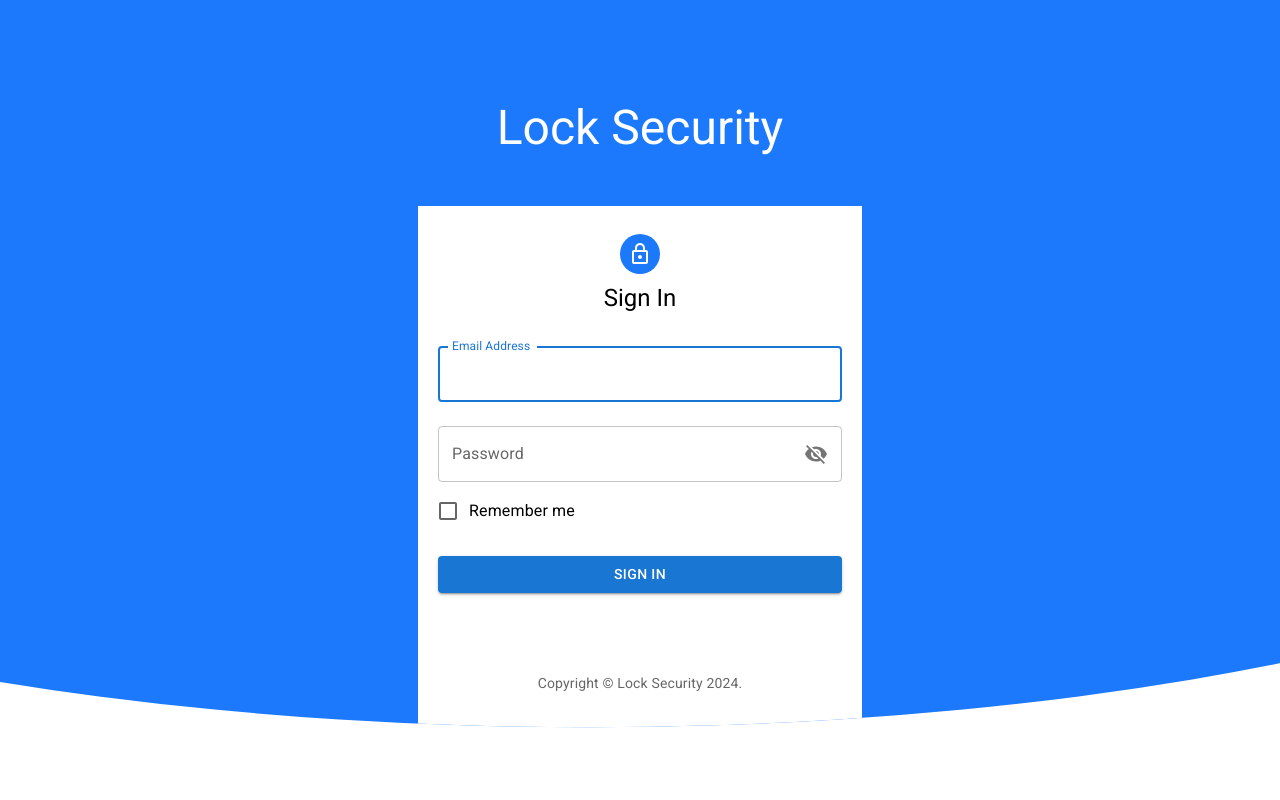
Scenario: Login › shouldn't login if email is empty
This screenshot has width=1280, height=800.
# we click on the login button
Click the button.
click(640, 574)  # box x1=438 y1=556 x2=842 y2=592
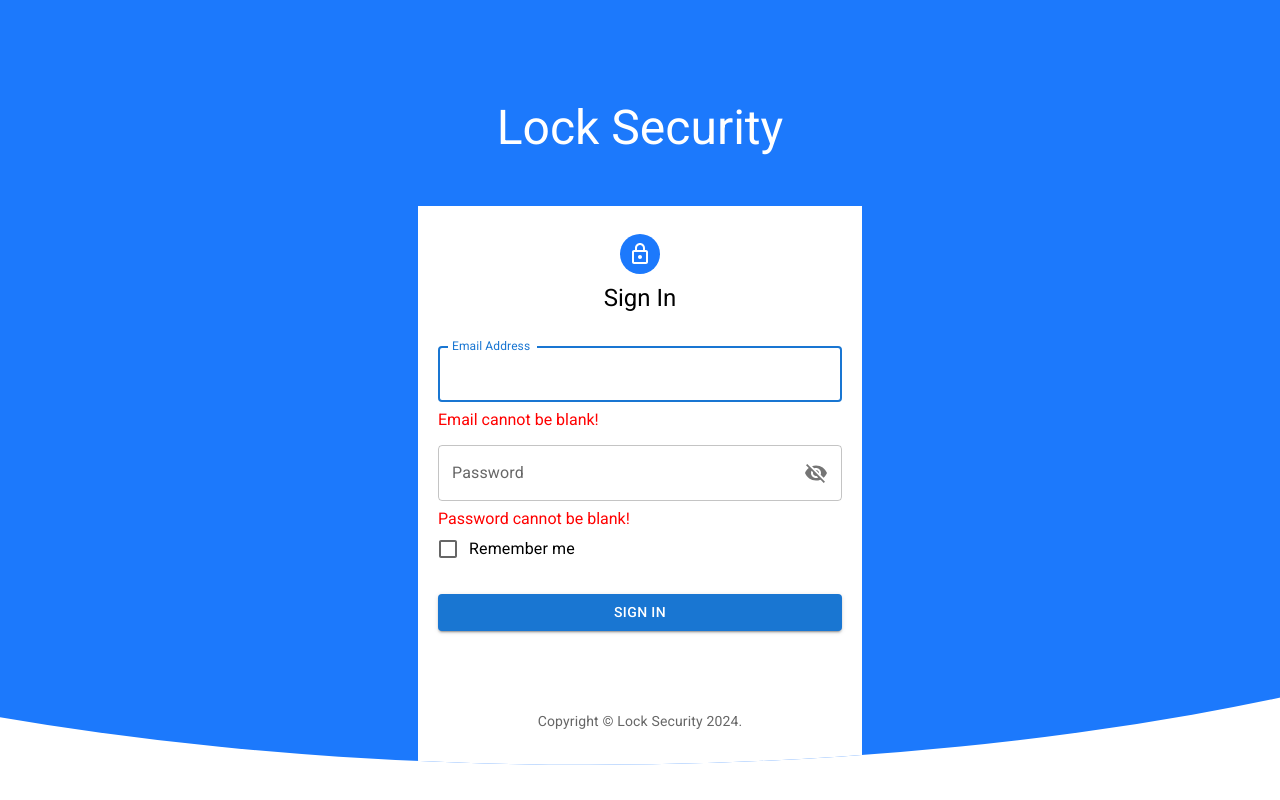
Expected: the text "Email cannot be blank!" is shown, x1=438 y1=410 x2=599 y2=429
